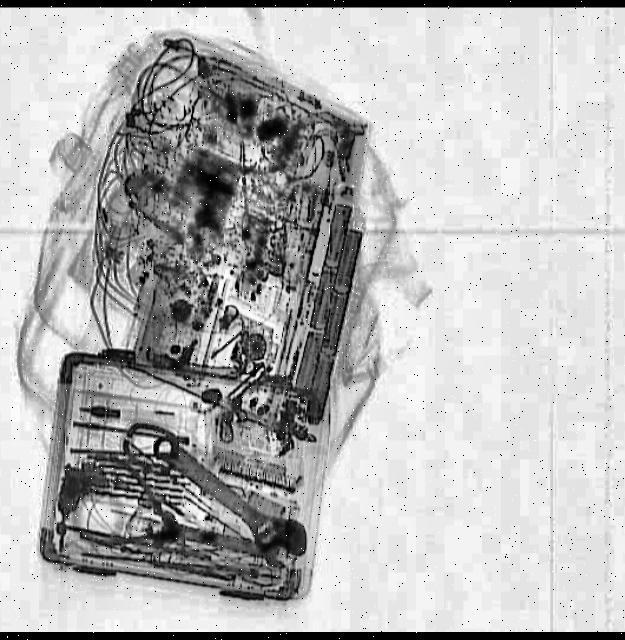Wrench: (138, 422, 318, 577), (144, 506, 292, 568)
